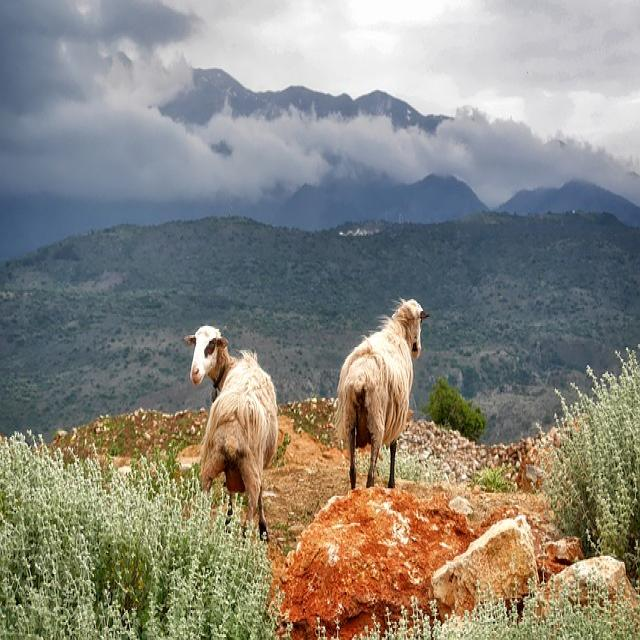sheep: (183, 323, 278, 541), (333, 296, 429, 490)
